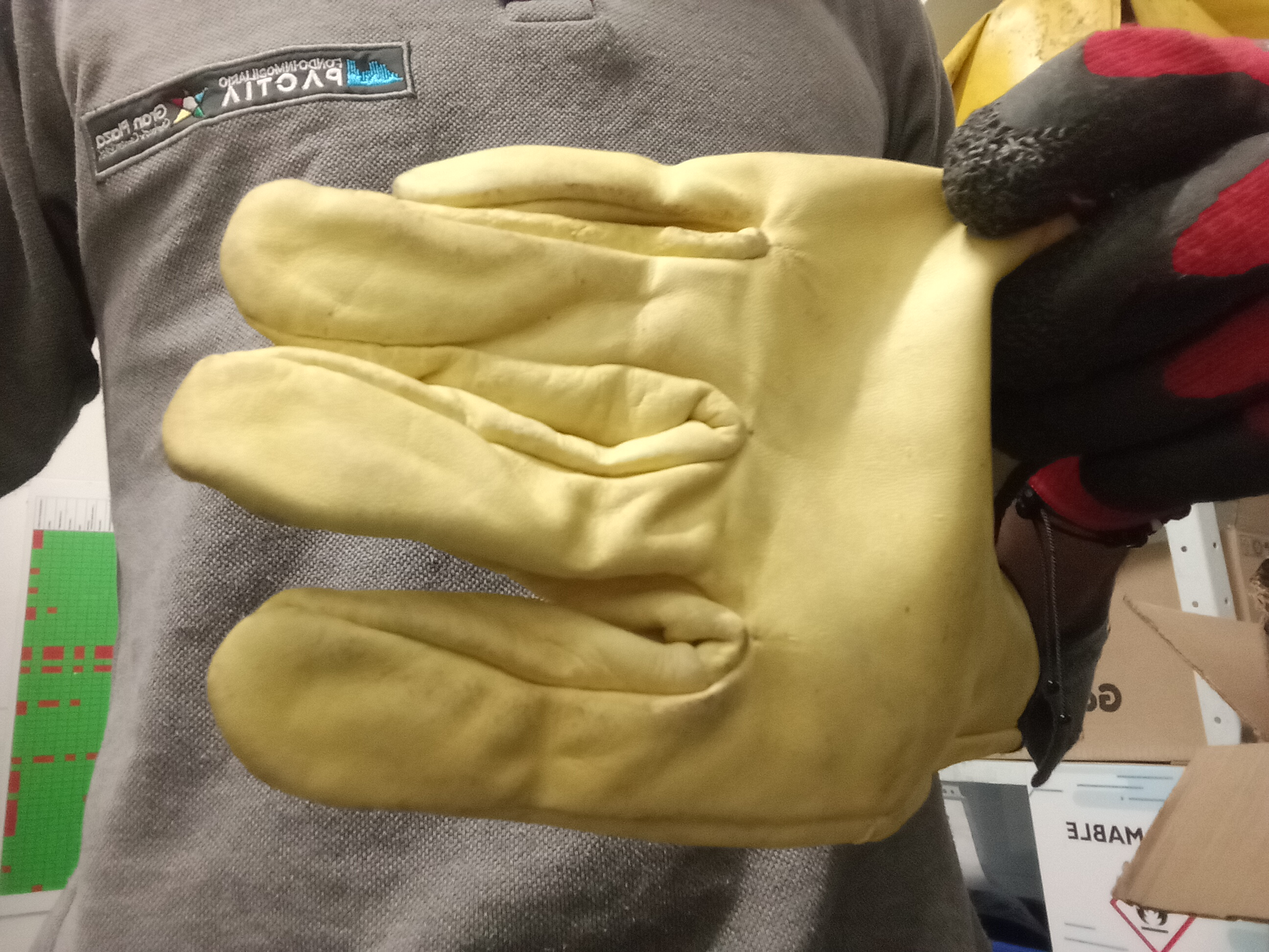Ordinario: (163, 145, 1029, 846)
